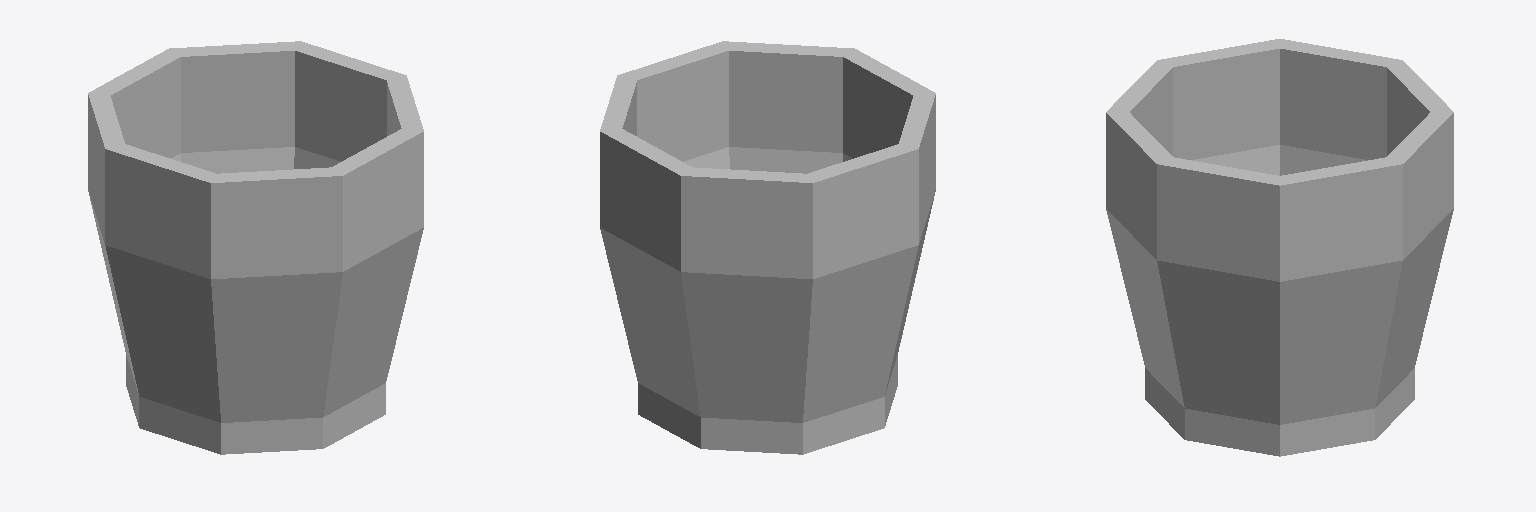
The model's file is cup_01.obj.
3 views of the same model, side by side, from view 1: azimuth 30°, elevation 25°; view 2: azimuth 150°, elevation 25°; view 3: azimuth 270°, elevation 25° (orthographic).
Visible parts, largest first — view 1: cup; view 2: cup; view 3: cup.
Boxes of the visible parts, x1=… form: cup: x1=88, y1=41, x2=423, y2=454; cup: x1=600, y1=41, x2=935, y2=454; cup: x1=1106, y1=39, x2=1453, y2=456.
Bounding box in the file's own units: 0.2722 × 0.2481 × 0.2721.